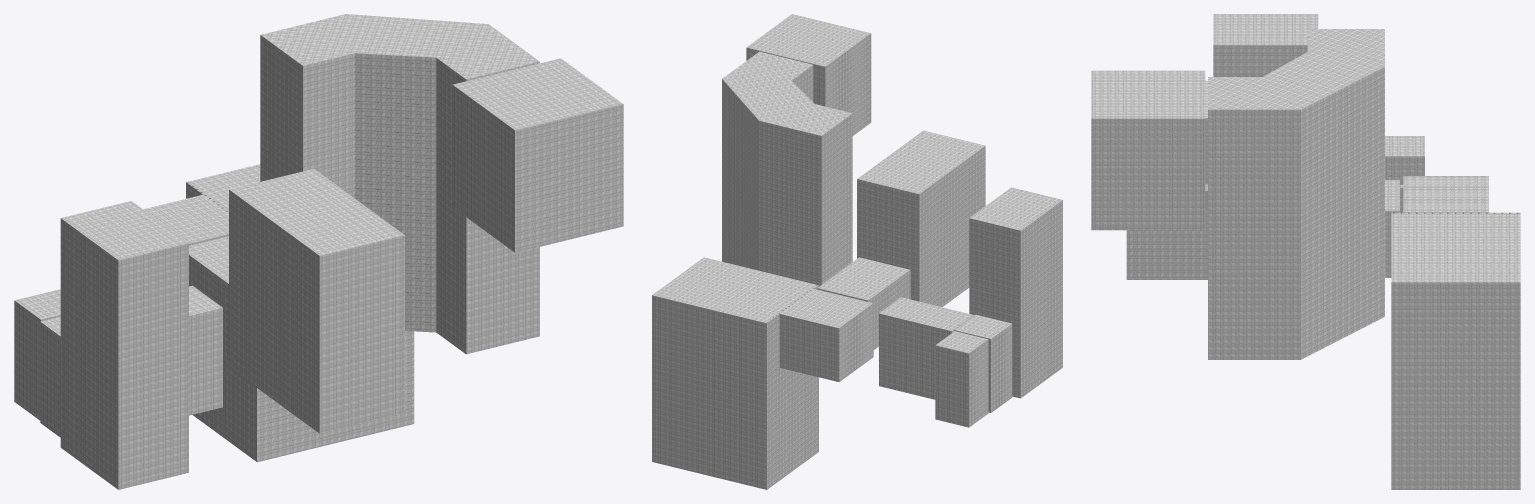
File: DungeonWalls.fbx
3 renders of one model, left to right at view 1: azimuth 30°, elevation 25°; view 2: azimuth 150°, elevation 25°; view 3: azimuth 270°, elevation 25°, orthographic. The views are drawn at different scales.
Parts seen in each view (by area): view 1: Walls1C.009, Walls1C.008, Walls1C.004, Walls1C.010, Walls1C.001, Walls1C.005, Walls1C.003, WallsWeird, Walls1C.007, Walls1C.006, Walls1C; view 2: Walls1C.009, Walls1C.001, Walls1C.008, Walls1C.004, Walls1C.010, Walls1C.007, Walls1C.005, WallsWeird, Walls1C.003, Walls1C.006, Walls1C; view 3: Walls1C.009, Walls1C.001, Walls1C.010, Walls1C.004, Walls1C.008, Walls1C.007, Walls1C.003, Walls1C.006.
Boxes of the visible parts, left/top/right/bottom form: Walls1C.009: left=260, top=14, right=539, bottom=354; Walls1C.008: left=229, top=169, right=404, bottom=433; Walls1C.004: left=60, top=201, right=188, bottom=489; Walls1C.010: left=452, top=58, right=623, bottom=252; Walls1C.001: left=186, top=164, right=414, bottom=462; Walls1C.005: left=189, top=285, right=222, bottom=415; Walls1C.003: left=14, top=289, right=60, bottom=420; WallsWeird: left=186, top=182, right=256, bottom=461; Walls1C.007: left=143, top=194, right=228, bottom=245; Walls1C.006: left=189, top=236, right=228, bottom=357; Walls1C: left=40, top=316, right=60, bottom=437; Walls1C.009: left=722, top=51, right=852, bottom=286; Walls1C.001: left=652, top=257, right=818, bottom=489; Walls1C.008: left=857, top=130, right=985, bottom=306; Walls1C.004: left=969, top=187, right=1062, bottom=398; Walls1C.010: left=746, top=14, right=871, bottom=135; Walls1C.007: left=779, top=288, right=873, bottom=381; Walls1C.005: left=879, top=297, right=973, bottom=399; WallsWeird: left=767, top=285, right=818, bottom=489; Walls1C.003: left=935, top=331, right=988, bottom=427; Walls1C.006: left=817, top=257, right=910, bottom=349; Walls1C: left=954, top=314, right=1012, bottom=412; Walls1C.009: left=1208, top=29, right=1384, bottom=359; Walls1C.001: left=1391, top=212, right=1520, bottom=489; Walls1C.010: left=1091, top=70, right=1205, bottom=230; Walls1C.004: left=1213, top=14, right=1318, bottom=76; Walls1C.008: left=1126, top=80, right=1207, bottom=279; Walls1C.007: left=1403, top=176, right=1488, bottom=212; Walls1C.003: left=1385, top=136, right=1424, bottom=212; Walls1C.006: left=1385, top=180, right=1399, bottom=277.
Bounding box in the file's own units: 59746 × 56054 × 55731.
1 material, 1 textured.
